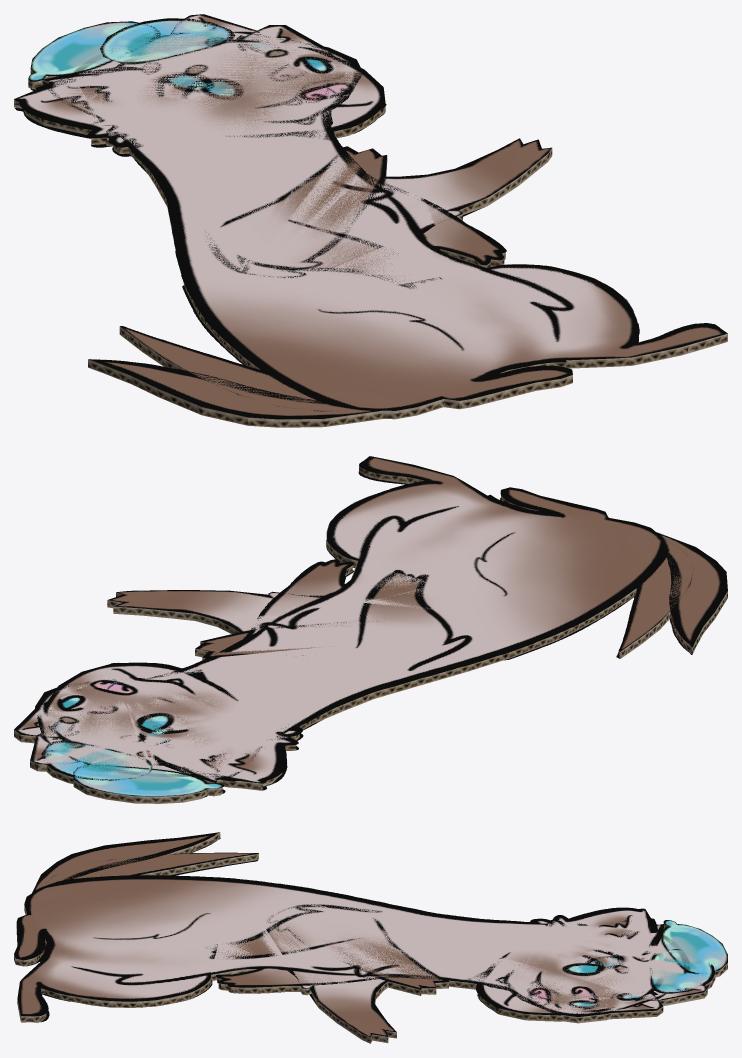
File: Ferret_Slime_Full.fbx
3 renders of one model, top to bottom at view 1: azimuth 30°, elevation 25°; view 2: azimuth 150°, elevation 25°; view 3: azimuth 270°, elevation 25°, orthographic. The views are drawn at different scales.
Visible parts, largest first — view 1: Plane, Plane.001; view 2: Plane, Plane.001; view 3: Plane, Plane.001.
Part boxes in pixels (box(x1,y1,x2,y2)): Plane: box(42, 18, 726, 427); Plane.001: box(14, 14, 727, 411); Plane: box(14, 456, 727, 783); Plane.001: box(30, 456, 693, 803); Plane: box(14, 832, 715, 1022); Plane.001: box(18, 852, 727, 1043).
Bounding box in the file's own units: 284 × 4 × 417.
